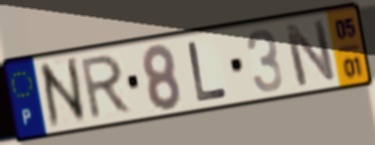3: (245, 27, 284, 93)
8: (139, 42, 183, 113)
L: (184, 38, 230, 104)
N: (35, 54, 91, 133), (281, 17, 339, 89)
R: (79, 51, 135, 123)
